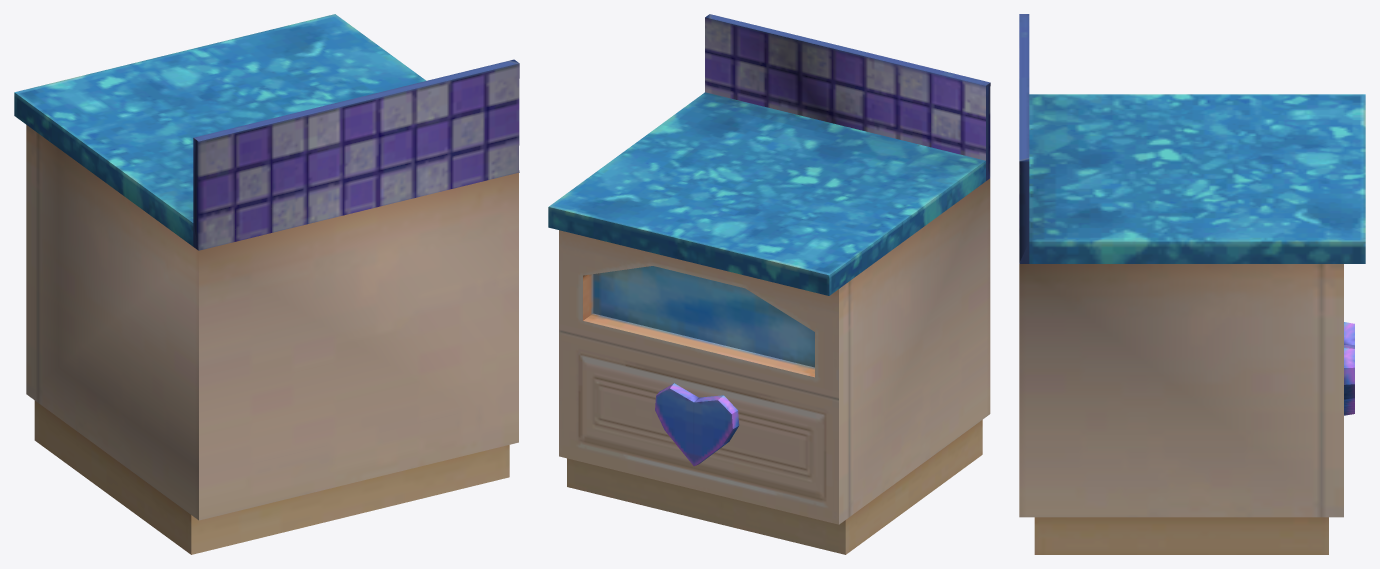
The model's file is furni_0200019_03.FBX.
3 views of the same model, side by side, from view 1: azimuth 30°, elevation 25°; view 2: azimuth 150°, elevation 25°; view 3: azimuth 270°, elevation 25° (orthographic). The views are drawn at different scales.
Parts seen in each view (by area): view 1: furni_0200019_03; view 2: furni_0200019_03; view 3: furni_0200019_03.
Part boxes in pixels (x1,y1,x2,y2): furni_0200019_03: [14, 14, 519, 554]; furni_0200019_03: [548, 14, 990, 554]; furni_0200019_03: [1019, 14, 1365, 554].
Bounding box in the file's own units: 80.42 × 100 × 80.
